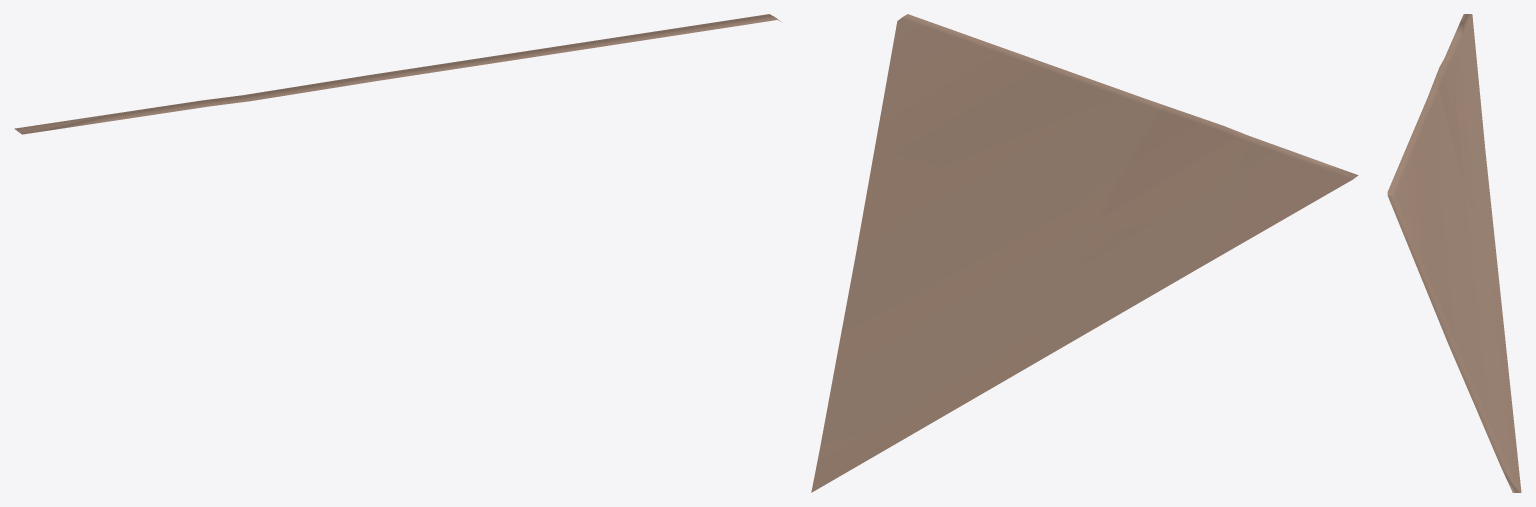
The picture shows the model from 3 angles, left to right: view 1: azimuth 30°, elevation 25°; view 2: azimuth 150°, elevation 25°; view 3: azimuth 270°, elevation 25°; orthographic projection. The views are drawn at different scales.
Bounding box in the file's own units: 0.4892 × 0.3797 × 0.1542.
Materials: 1 (1 with a texture image).
